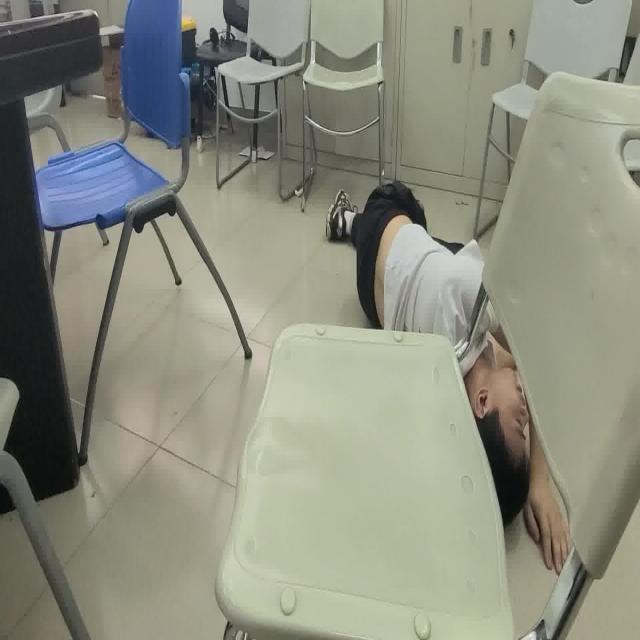fall: (324, 173, 577, 573)
